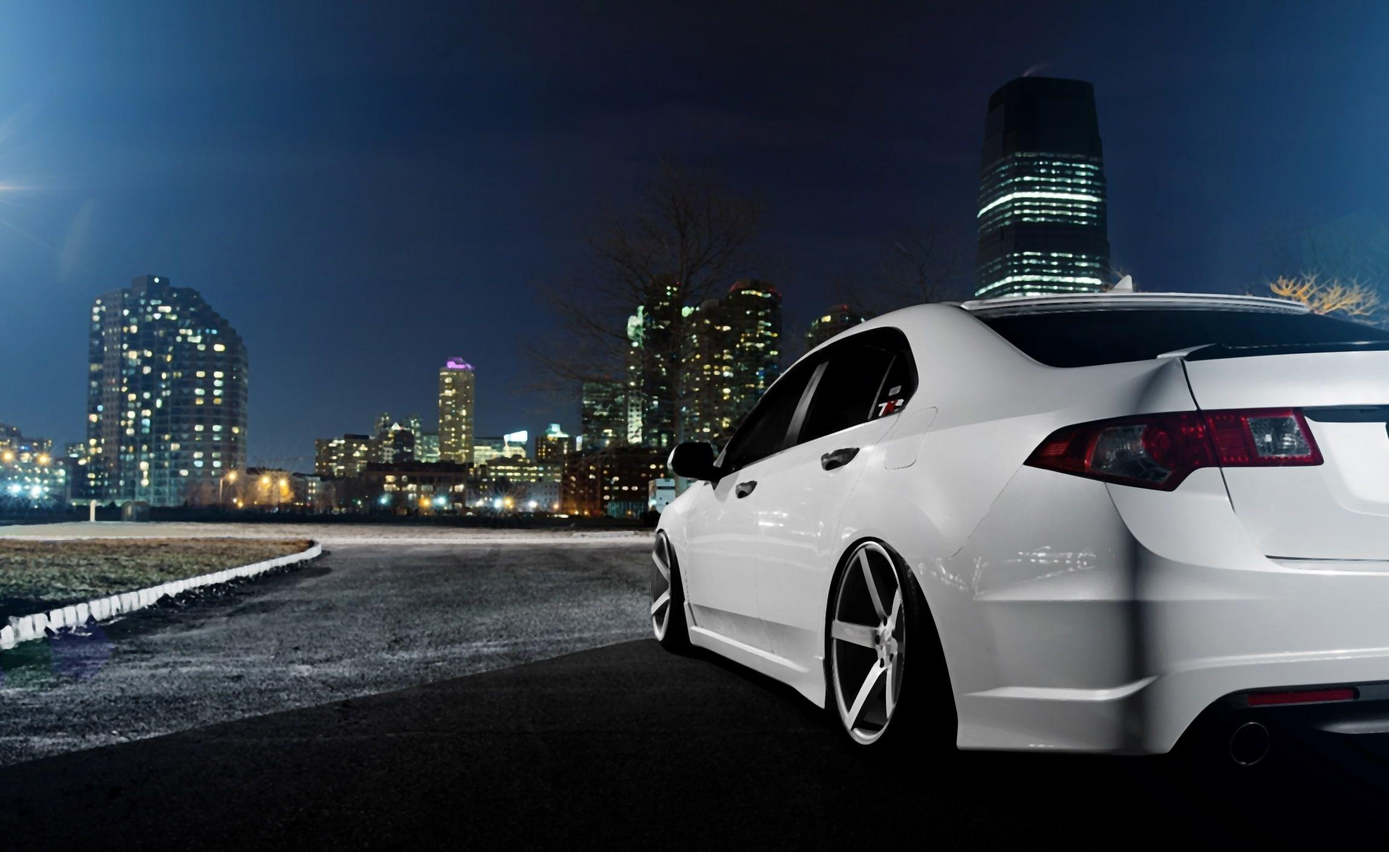Car boot: (1175, 337, 1389, 570), (674, 595, 833, 715)
Fender - -F-L-: (656, 481, 699, 643)
Fender - -R-L-: (823, 416, 1024, 687)
Passenger-s door - -F-L-: (702, 337, 803, 682)
Passenger-s door - -R-L-: (784, 322, 920, 680)
Rear bumper: (920, 470, 1389, 761)
Rear light - -L-: (1016, 400, 1327, 497)
Side mirror - -L-: (663, 429, 728, 484)
